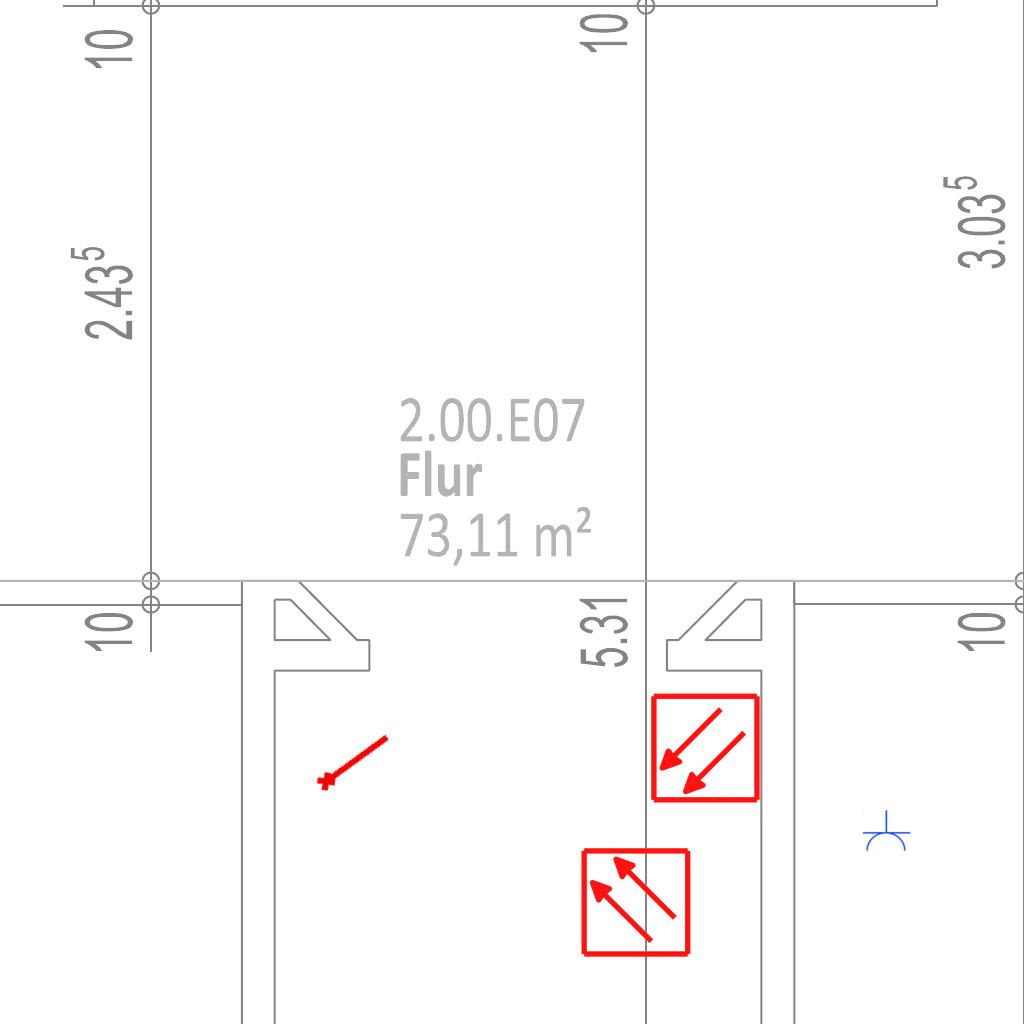ASR_Ansaugoeffnung: (310, 725, 396, 796)
RMO_Rauchmelder_optischer: (649, 692, 762, 805), (579, 846, 692, 959)
Schukosteckdose_einfach: (861, 810, 911, 853)
